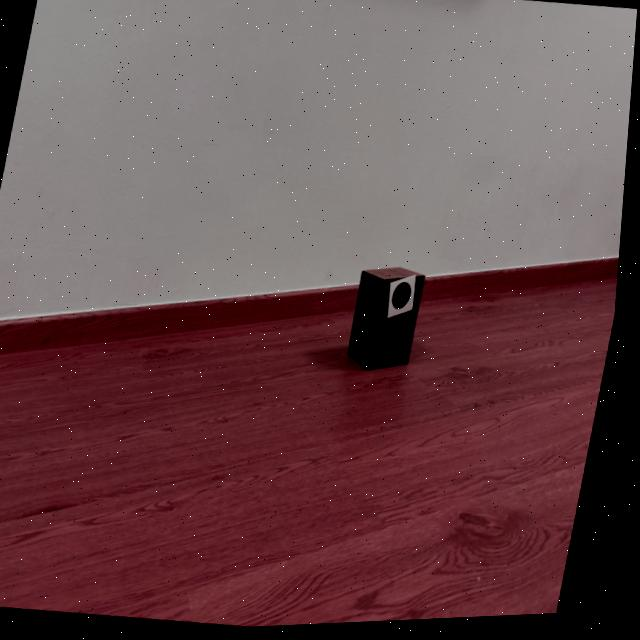CIRCLE: (396, 286, 416, 313)
